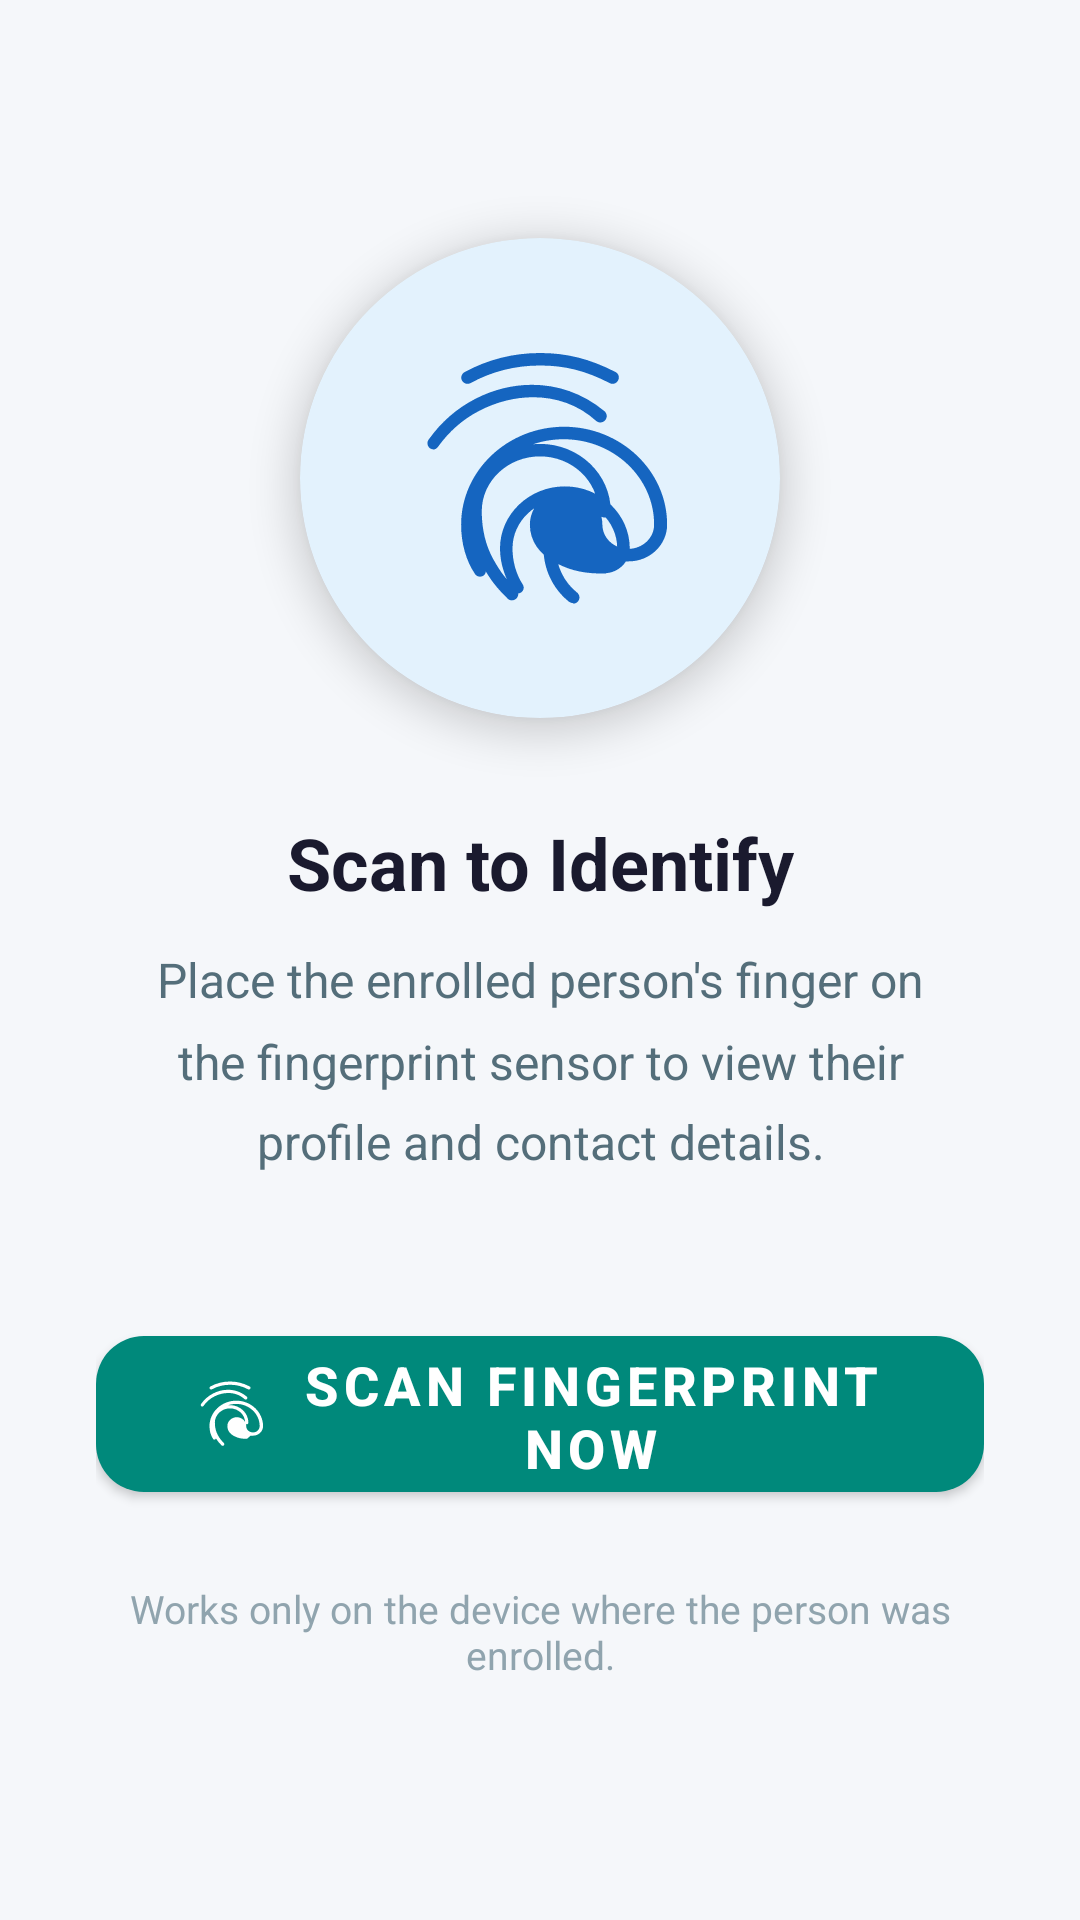

Icon bounding boxes for this 1080w x 1920h phone screenshot, format (x1, y1, x2, y2):
Verify Identity: (427, 353, 667, 604)
